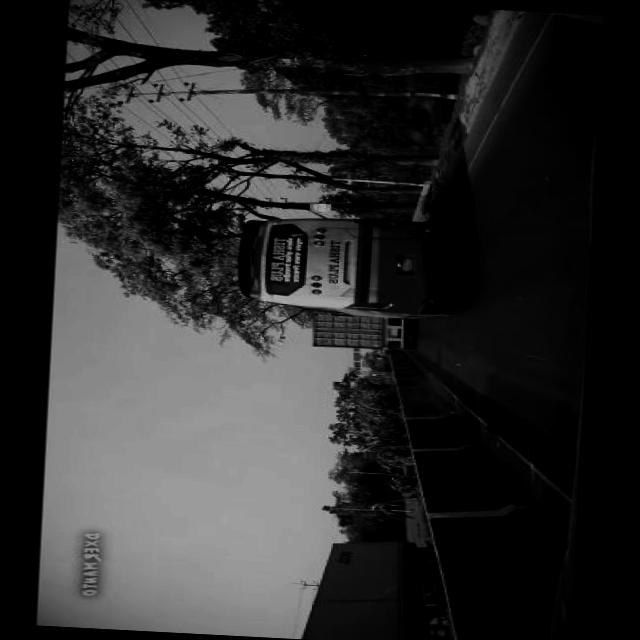bus: (230, 208, 464, 320)
truck: (293, 530, 456, 640), (304, 308, 420, 351)
